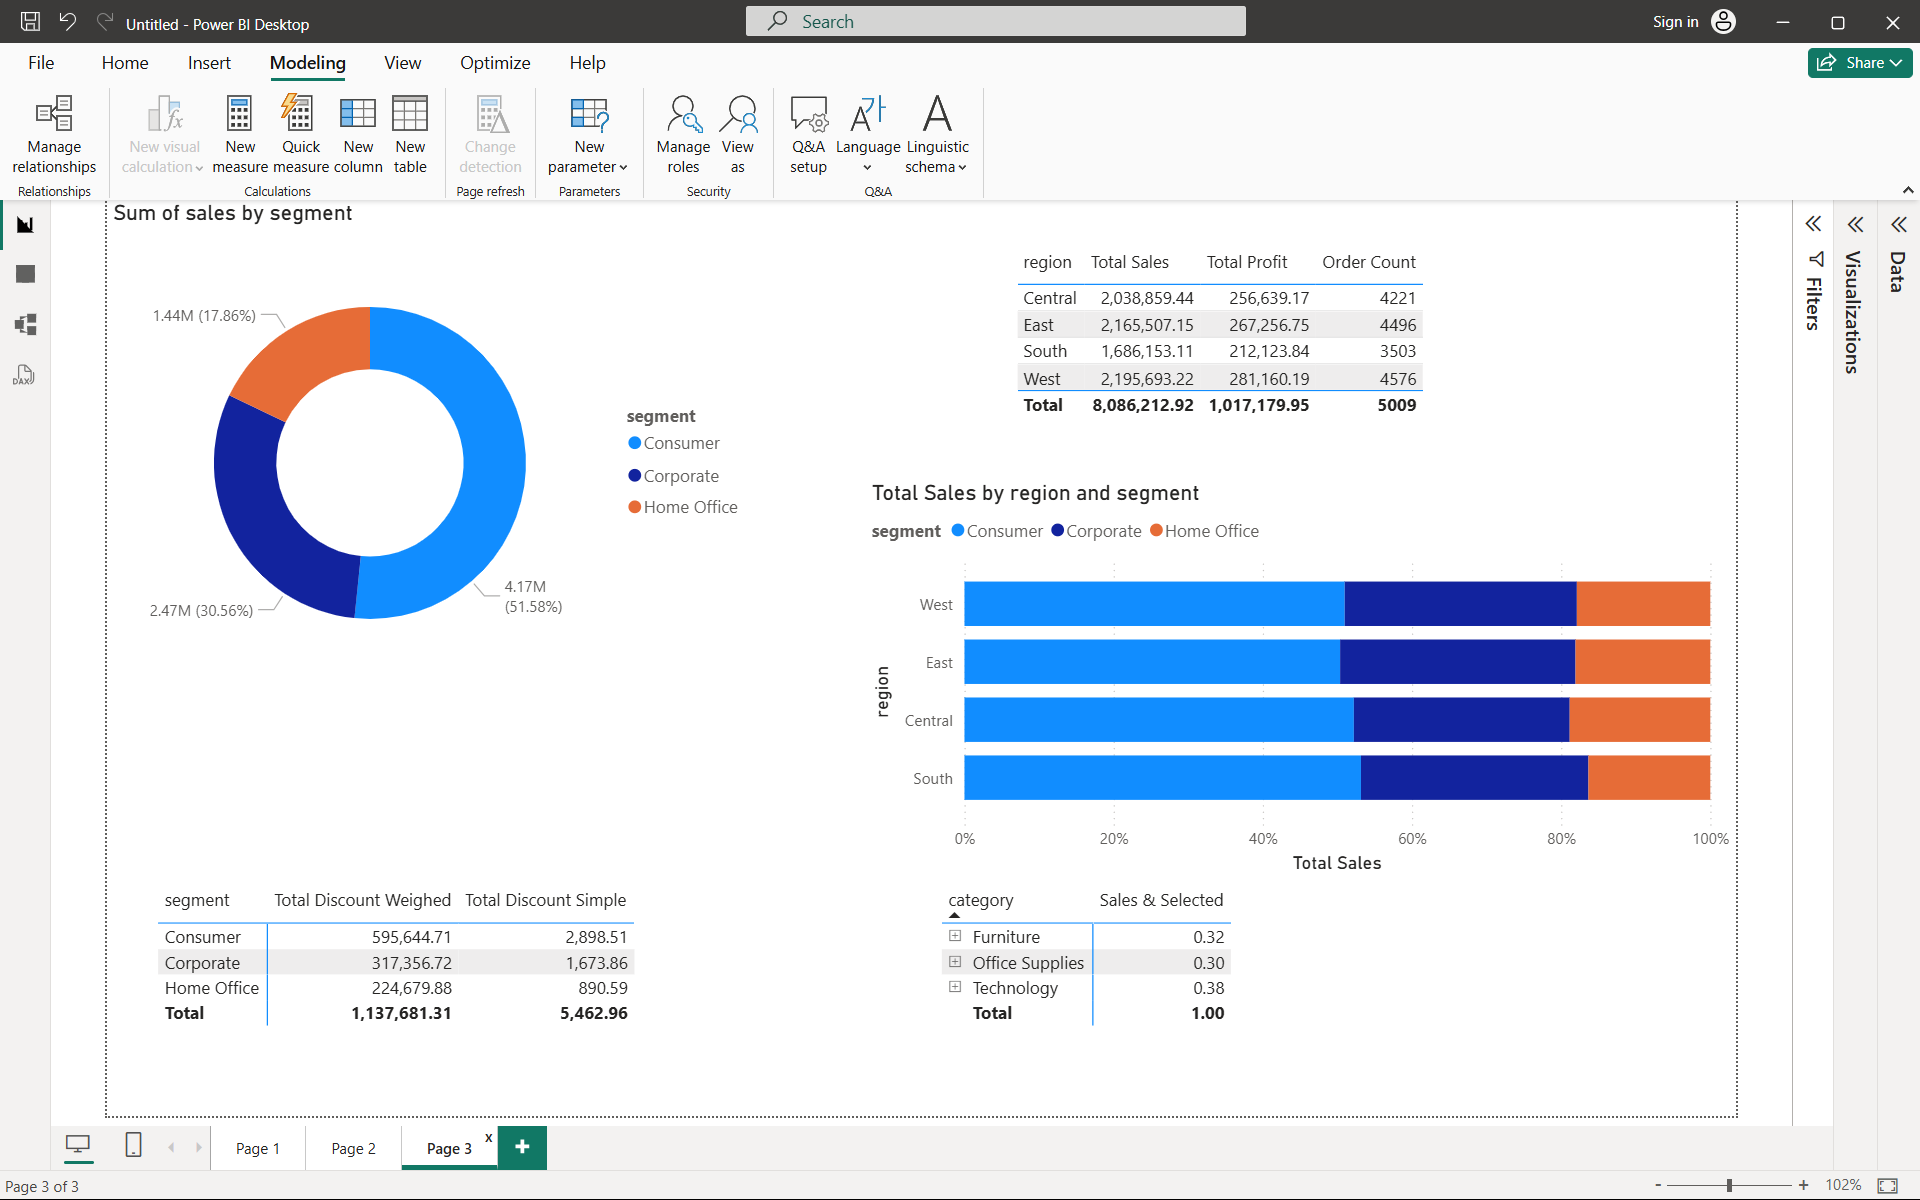

The page's visual inventory and layout, read from the dashboard file:
{"tool":"powerbi","page":{"name":"Page 3","canvas":[1280,720],"ordinal":2},"visuals":[{"type":"donutChart","fields":{"Category":["mart dim_customer.segment"],"Y":["Sum(mart fact_sales.sales)"]},"box":[0,0,510.7,394.5],"z":0},{"type":"tableEx","fields":{"Values":["mart dim_customer.region","mart dim_customer.Total Sales","mart dim_customer.Total Profit","mart dim_customer.Order Count"]},"box":[709.8,32.8,345.5,164],"z":1000},{"type":"hundredPercentStackedBarChart","fields":{"Series":["mart dim_customer.segment"],"Y":["mart dim_customer.Total Sales"],"Category":["mart dim_customer.region"]},"box":[596.2,220.2,684,313.9],"z":2000},{"type":"pivotTable","fields":{"Values":["mart dim_customer.Total Discount Weighed","mart dim_customer.Total Discount Simple"],"Rows":["mart dim_customer.segment"]},"box":[35.1,534.1,510.7,160.5],"z":3000},{"type":"pivotTable","fields":{"Values":["mart dim_customer.Sales & Selected"],"Rows":["mart dim_product.category","mart dim_product.product_name"]},"box":[651.2,534.1,247.1,160.5],"z":4000}]}

Visuals, with their boxes on the page's 1280x720 design canvas (x1, y1, x2, y2). These are canvas units, not pixel positions in the 1920x1200 screenshot, which may show the page scaled, cropped or inside an application window:
donutChart - mart dim_customer.segment x Sum(mart fact_sales.sales): bbox(0, 0, 511, 394)
tableEx - mart dim_customer.region x mart dim_customer.Total Sales: bbox(710, 33, 1055, 197)
hundredPercentStackedBarChart - mart dim_customer.segment x mart dim_customer.Total Sales: bbox(596, 220, 1280, 534)
pivotTable - mart dim_customer.Total Discount Weighed x mart dim_customer.Total Discount Simple: bbox(35, 534, 546, 695)
pivotTable - mart dim_customer.Sales & Selected x mart dim_product.category: bbox(651, 534, 898, 695)
